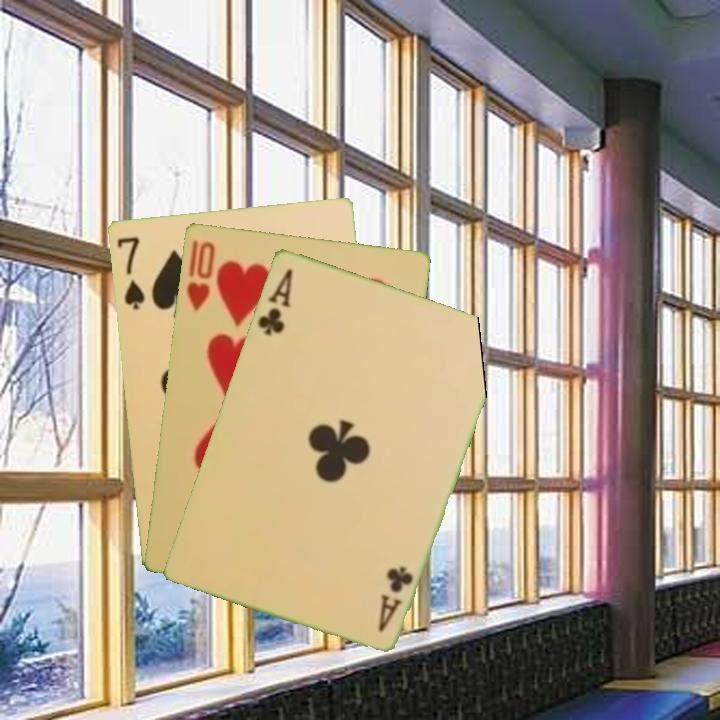10h: (183, 236, 218, 313)
7s: (113, 232, 148, 312)
Ac: (254, 264, 296, 338), (374, 562, 416, 635)
